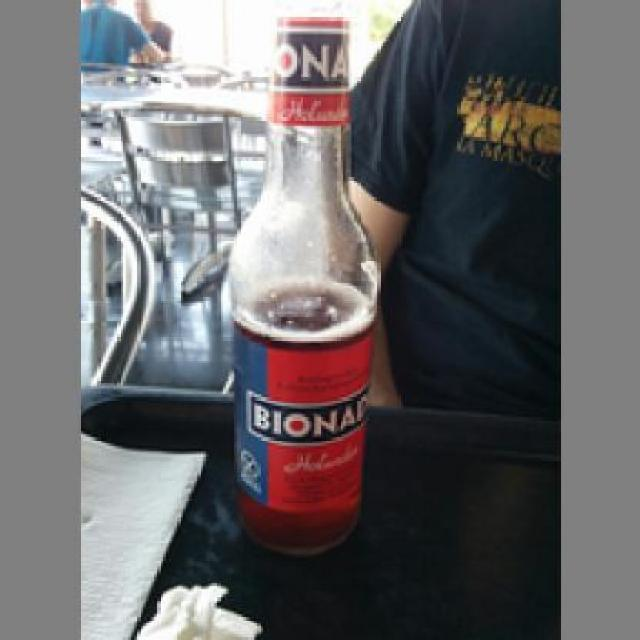Soda: (214, 0, 380, 560)
